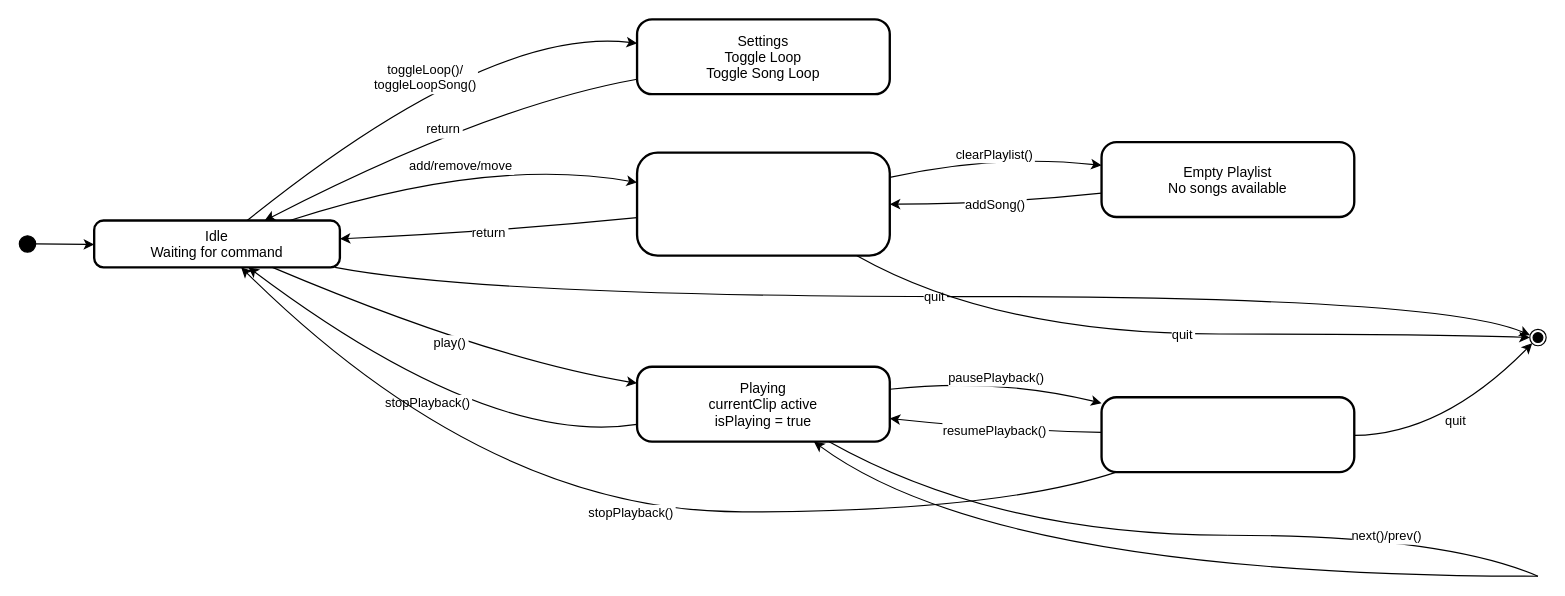
Some shapes in this 1565 by 596 pixel diagram are drawn without their labels. The shapes that lost their labels are listed below. From the top down, each one's centre as x and y in pixels, then its label:
At point 762,203: "Editing Playlist Add/Remove Songs Modify Order".
At point 1227,434: "Paused currentClip stopped isPlaying = false".
